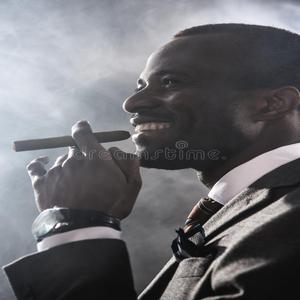cigarette: (11, 131, 130, 153)
